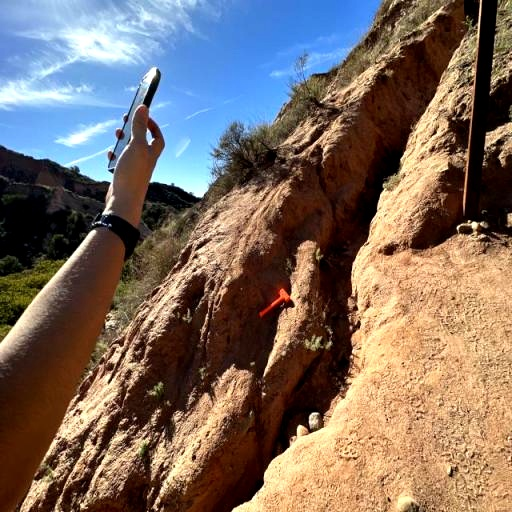mallet: (258, 288, 290, 318)
